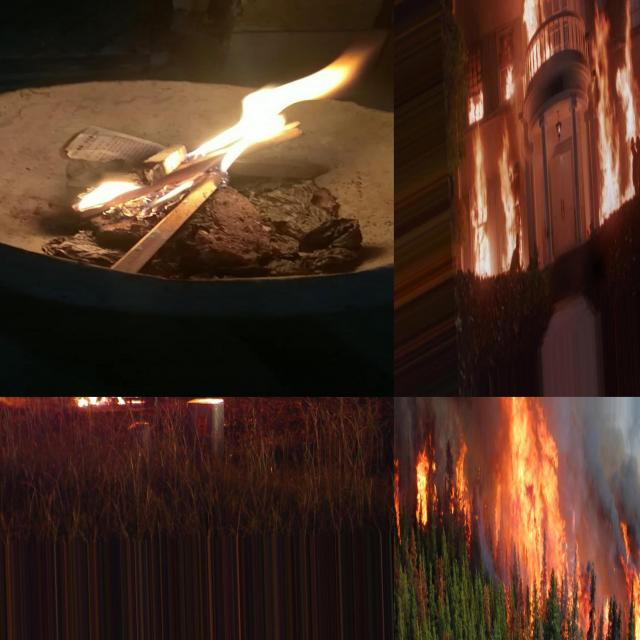fire: (69, 52, 378, 222), (494, 398, 580, 617), (590, 0, 640, 215), (498, 125, 522, 274), (467, 130, 491, 276), (522, 0, 554, 86), (623, 527, 640, 640), (452, 442, 472, 532), (414, 435, 429, 525), (464, 77, 488, 129), (394, 450, 404, 548), (504, 50, 516, 109), (432, 453, 439, 518), (602, 586, 612, 630)
smoke: (567, 398, 640, 544), (475, 482, 493, 587), (581, 555, 597, 607)
